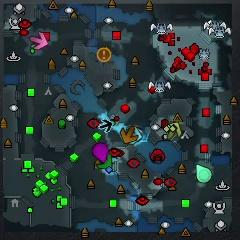Other: (97, 48, 112, 63)
p2: (196, 164, 212, 183)
p3: (93, 143, 108, 161)
x1: (30, 32, 49, 49)
x2: (164, 122, 181, 140)
x3: (132, 126, 142, 145)
x3Clone: (99, 118, 112, 133)
x4: (96, 154, 112, 169)
x5: (121, 126, 138, 144)
